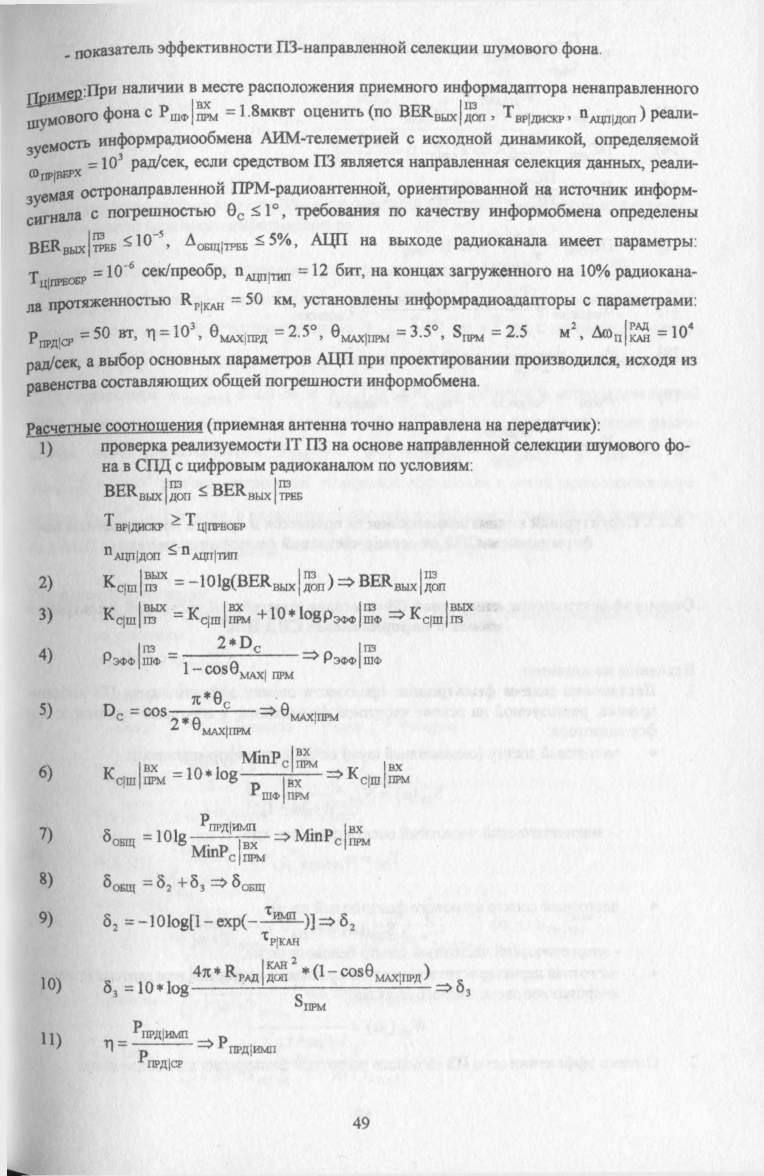BER.вых.пз.доп: (240, 566, 327, 594)
D.с: (98, 695, 125, 726), (236, 632, 267, 655)
K.с.ш.вх.прм: (99, 758, 165, 793), (185, 597, 254, 629)
K.с.ш.вых.пз: (97, 562, 172, 594), (99, 601, 170, 632)
P.прд.имп: (197, 811, 261, 838), (130, 1017, 191, 1040)
P.прд.ср: (134, 1048, 190, 1070)
P.с.вх.прм: (273, 742, 319, 769), (221, 840, 268, 865)
P.шф.вх.прм: (248, 778, 310, 807)
R.р.кан.доп: (219, 954, 293, 983)
S.прм: (285, 993, 334, 1016)
δ.2: (99, 909, 125, 934), (152, 874, 174, 896)
δ.3: (186, 872, 212, 897), (97, 972, 118, 1001)
δ.общ: (99, 824, 140, 850), (102, 870, 138, 895)
η: (102, 1031, 117, 1058)
θ.max.прд: (367, 958, 421, 985)
θ.max.прм: (189, 715, 254, 740), (232, 660, 290, 685)
θ.с: (210, 688, 233, 711)
ρ.эф.пз.шф: (321, 597, 389, 630), (99, 642, 166, 674)
τ.имп: (261, 904, 297, 921)
τ.р.кан: (262, 929, 303, 948)
